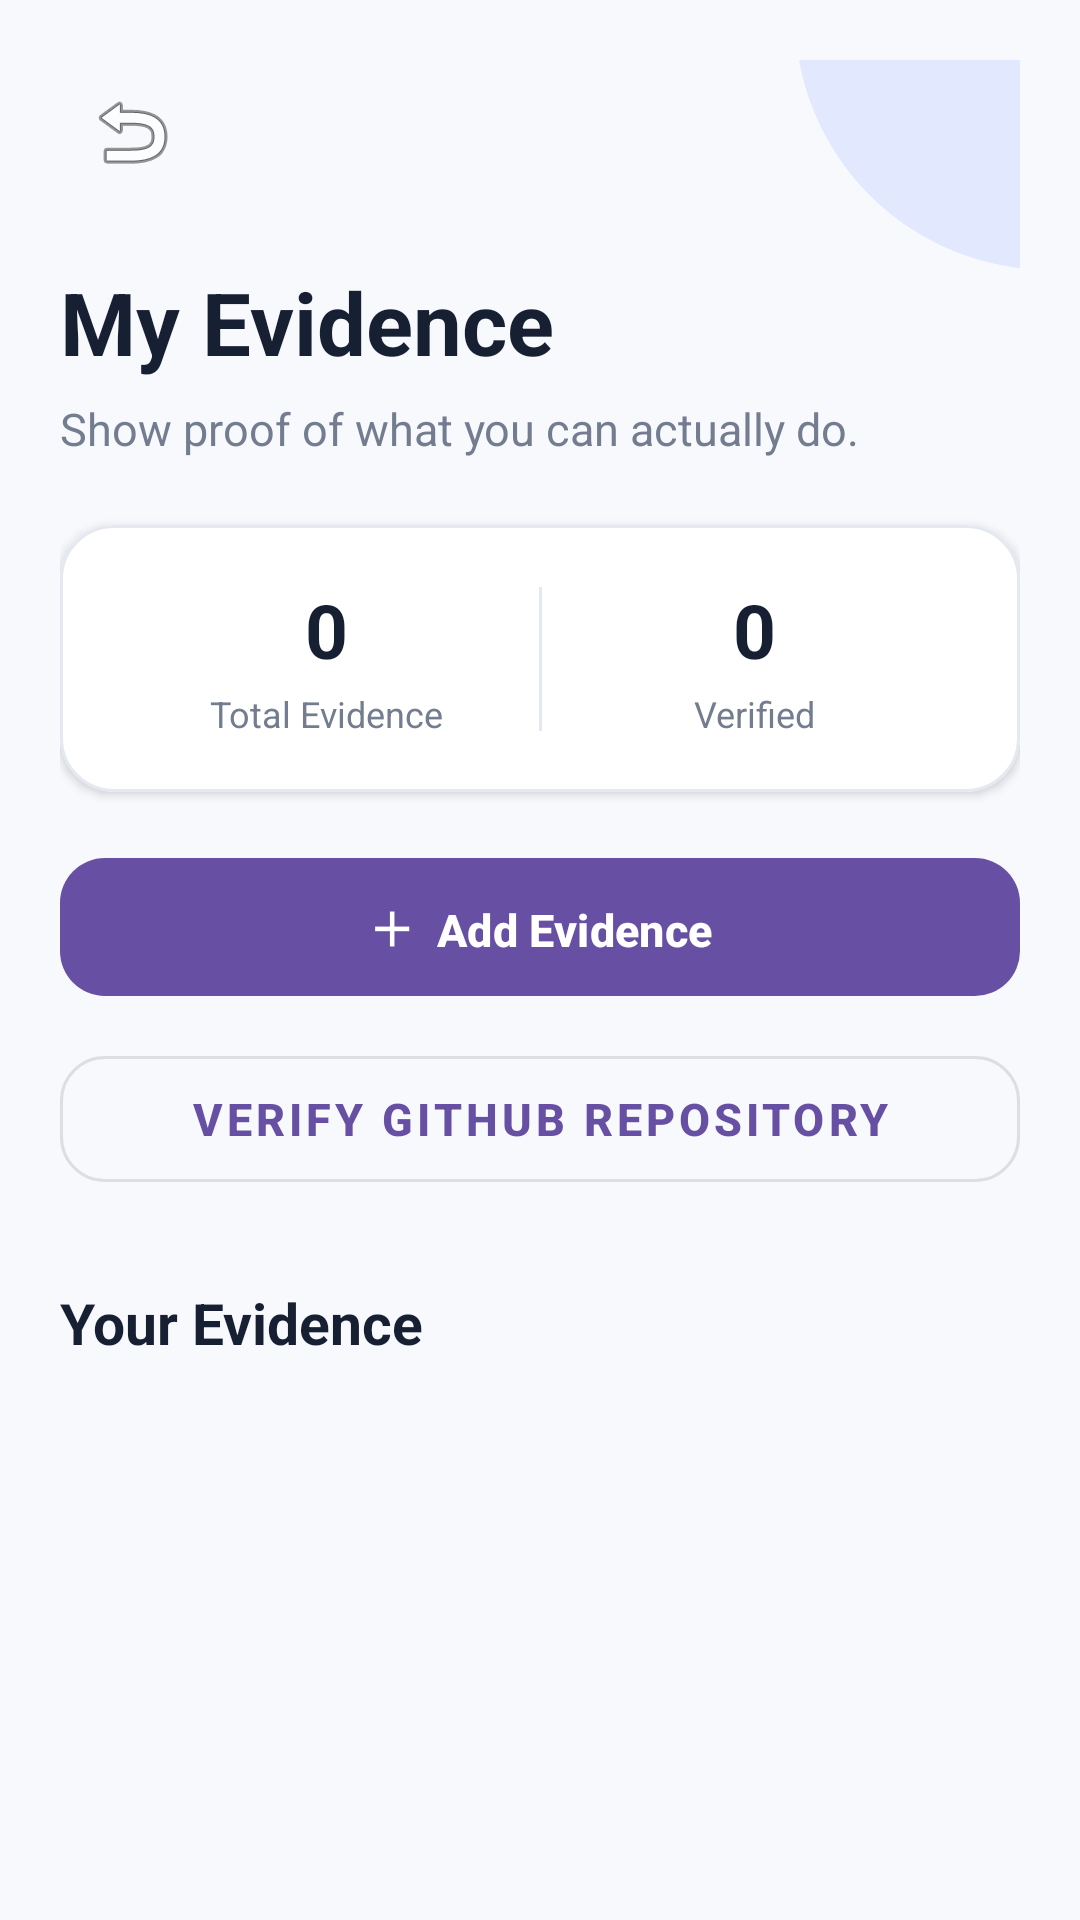

Screen size 1080×1920. Icon name, then its center in pixels as (x,y):
Back: (133,132)
